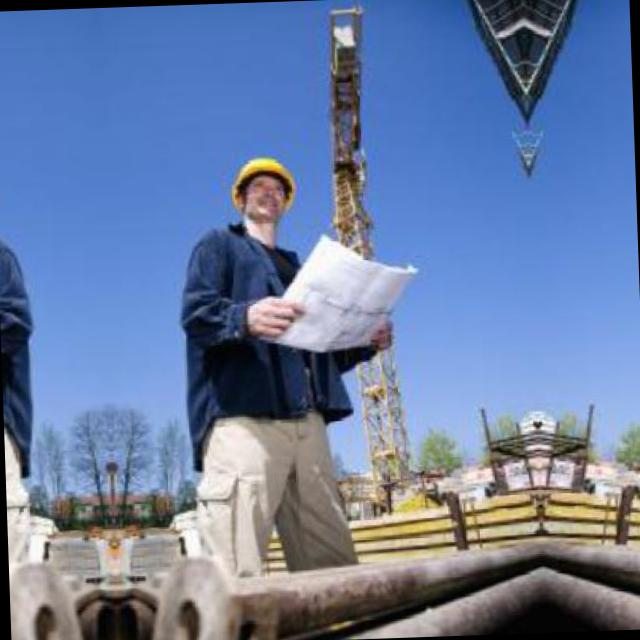helmet: (215, 141, 302, 238)
